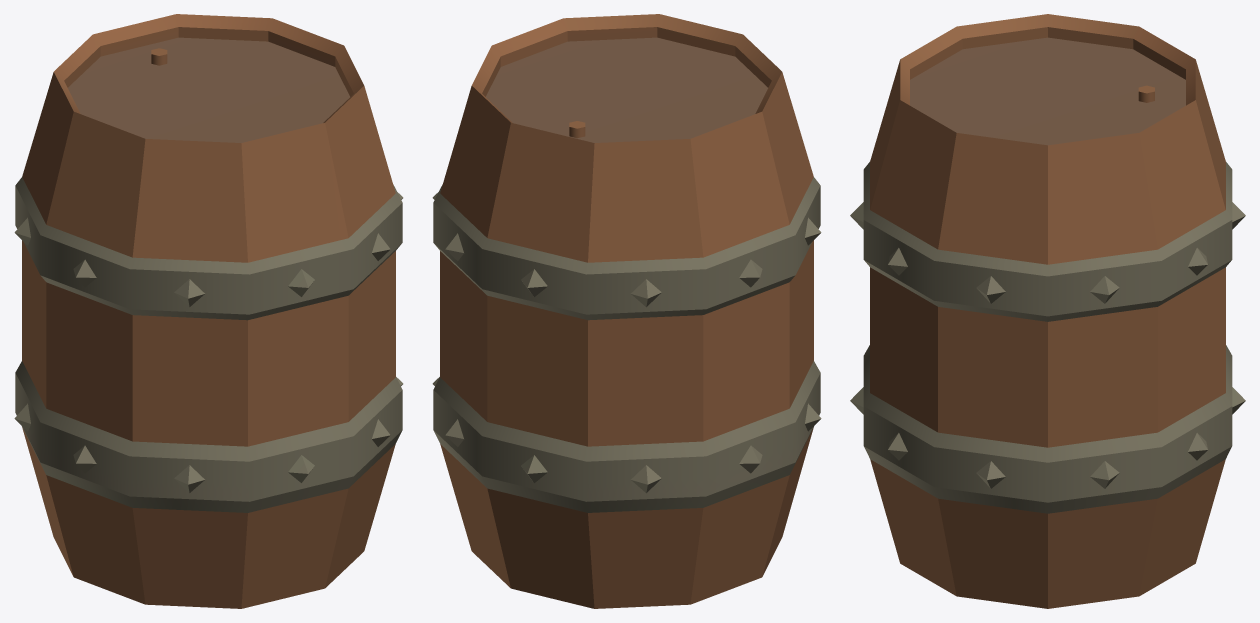
File: SM_Wooden Barrel.fbx
3 renders of one model, left to right at view 1: azimuth 30°, elevation 25°; view 2: azimuth 150°, elevation 25°; view 3: azimuth 270°, elevation 25°, orthographic.
Parts seen in each view (by area): view 1: SM_Wooden_Barrel1; view 2: SM_Wooden_Barrel1; view 3: SM_Wooden_Barrel1.
Part boxes in pixels (box(x1,y1,x2,y2)): SM_Wooden_Barrel1: box(14, 14, 403, 608); SM_Wooden_Barrel1: box(432, 14, 821, 608); SM_Wooden_Barrel1: box(850, 14, 1245, 608).
Bounding box in the file's own units: 0.3746 × 0.4945 × 0.3828.
1 material, 1 textured.
